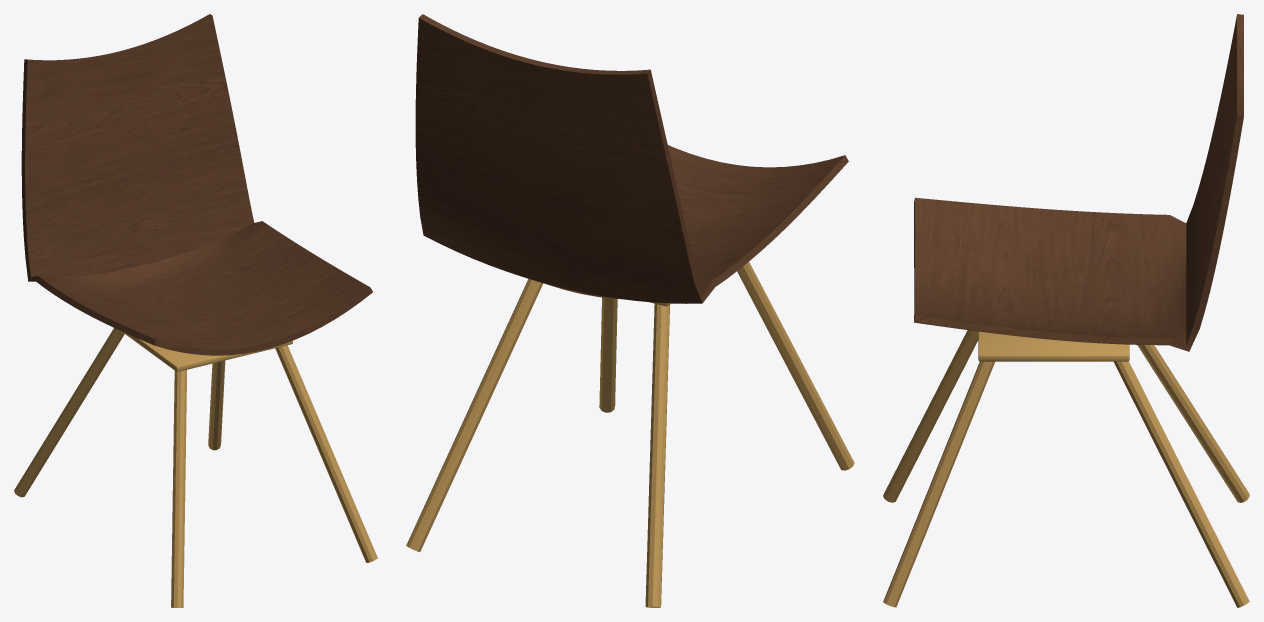
Rendered from shell_walnut.glb.
The picture shows the model from 3 angles, left to right: view 1: azimuth 30°, elevation 25°; view 2: azimuth 150°, elevation 25°; view 3: azimuth 270°, elevation 25°; orthographic projection. The views are drawn at different scales.
Parts seen in each view (by area): view 1: shell_walnut; view 2: shell_walnut; view 3: shell_walnut.
Part boxes in pixels (x1,y1,x2,y2): shell_walnut: (14,14,377,607); shell_walnut: (406,14,854,607); shell_walnut: (883,14,1249,607).
Size of the model in its own units: 0.4733 by 0.8557 by 0.5808.
2 materials, 1 textured.
